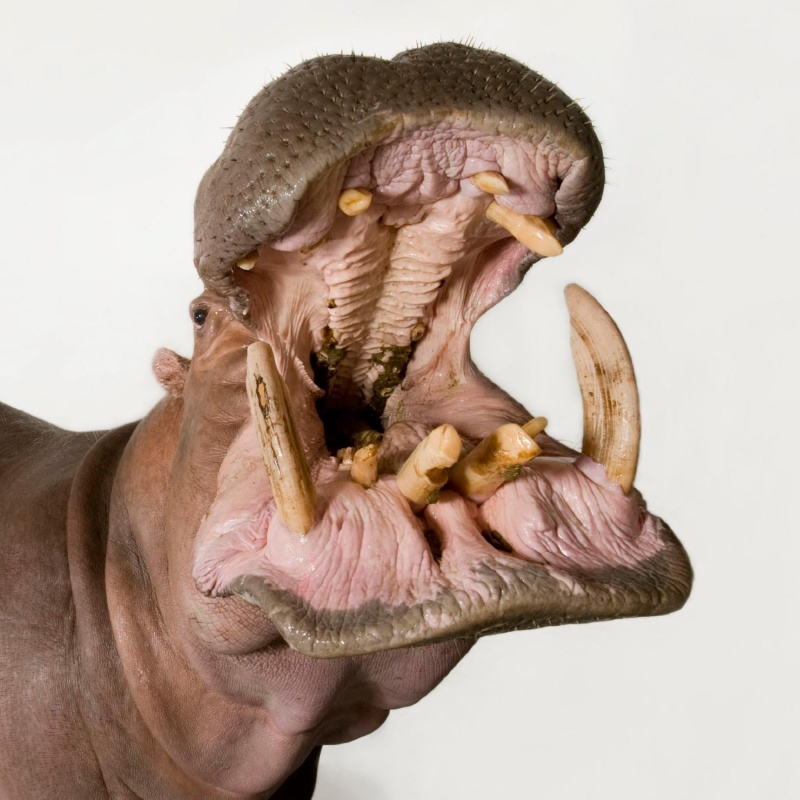hipopotamo: (0, 48, 705, 789)
